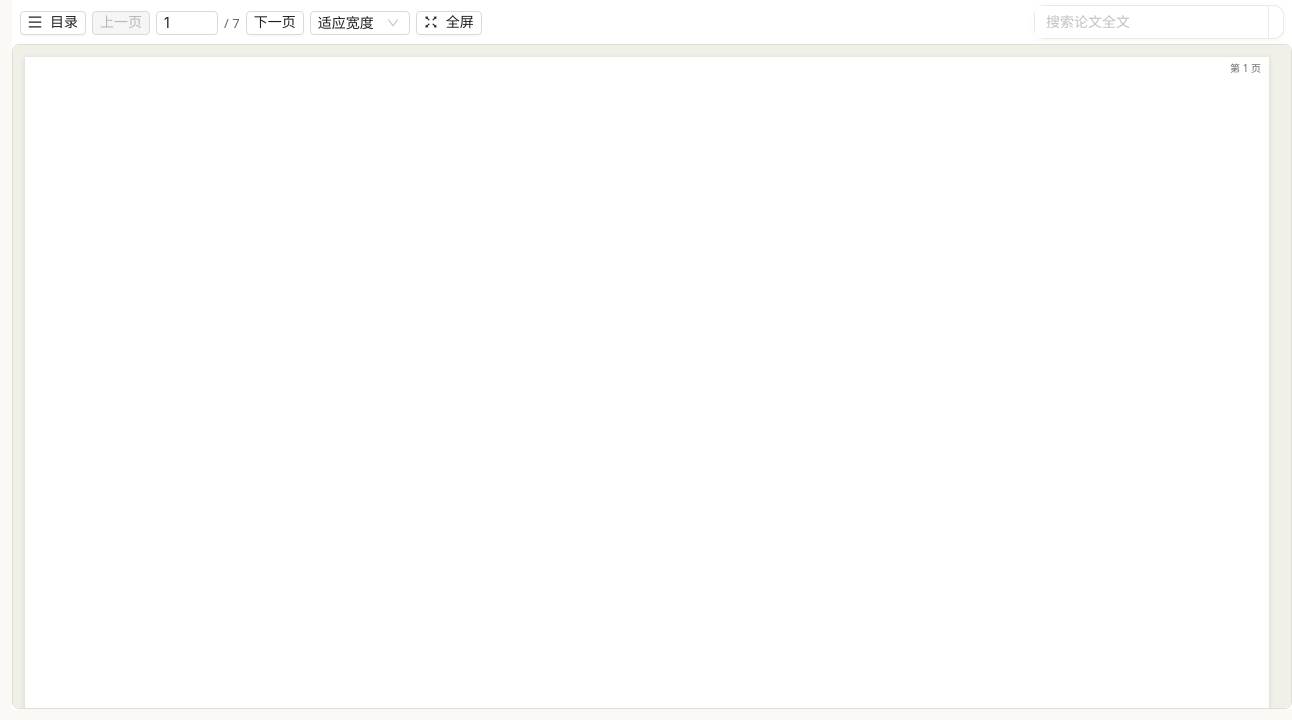
full text search finds unrendered pages and navigates matching pages
Check: the number field named "PDF 页码" is enabled, box 157,12 -> 217,34
Type "bounded residual" into the search field labelled "搜索论文全文". click: [1144, 22]
box: 1046,10 -> 1242,34
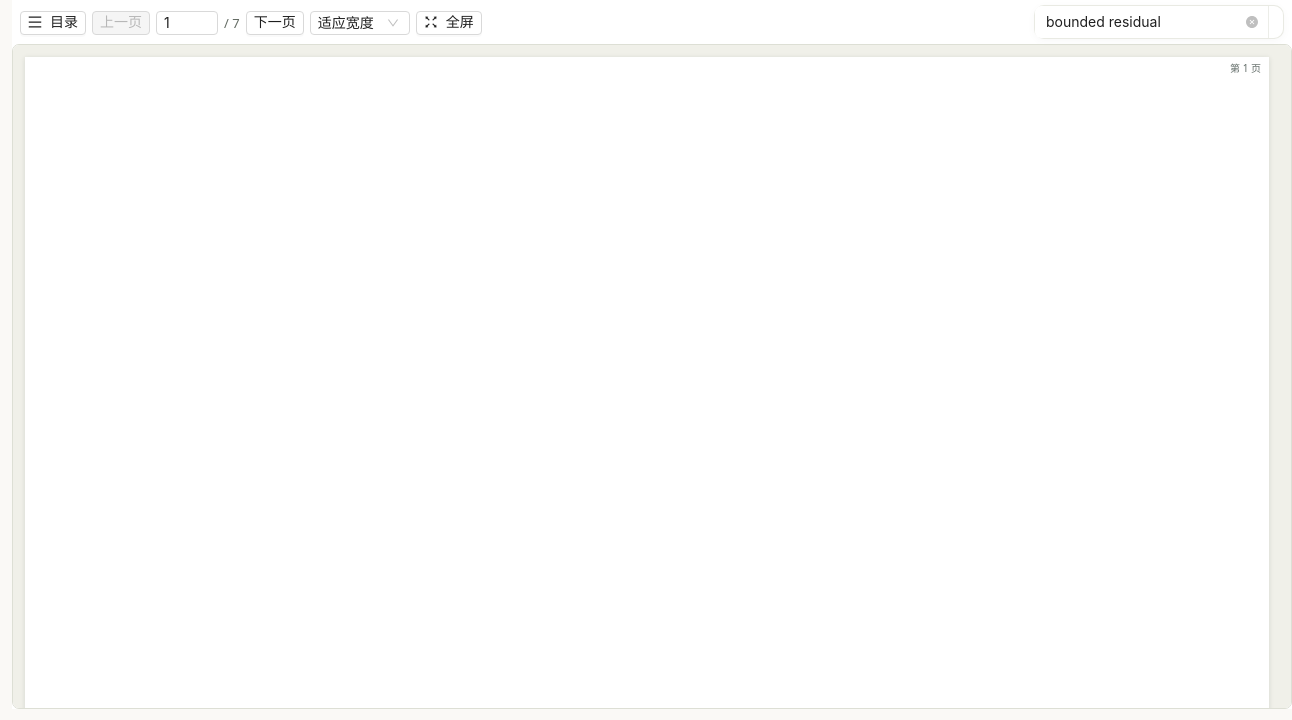
Click the 2nd button named "搜索". click: [1276, 22]
box: 1268,6 -> 1283,38
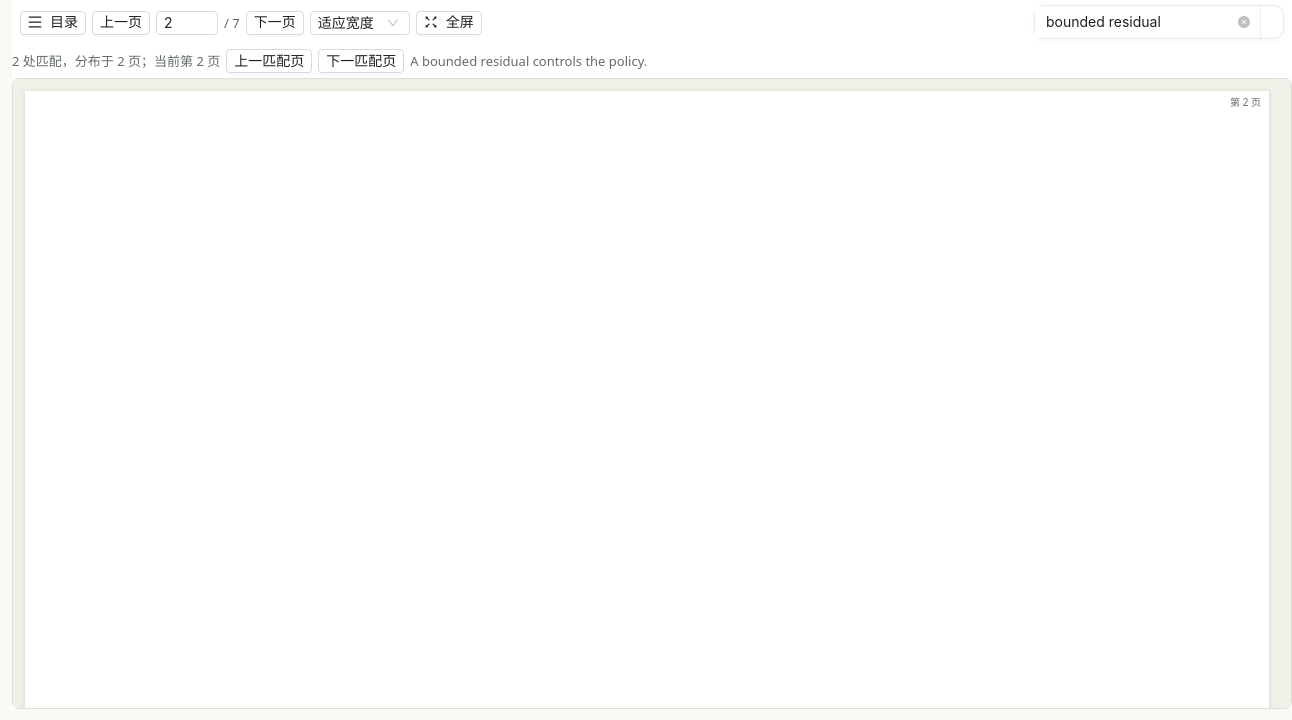
Check: the text "2 处匹配，分布于 2 页；当前第 2 页" is shown, box 12,51 -> 220,71
Click the button "下一匹配页". click: [361, 61]
box: 318,49 -> 404,73
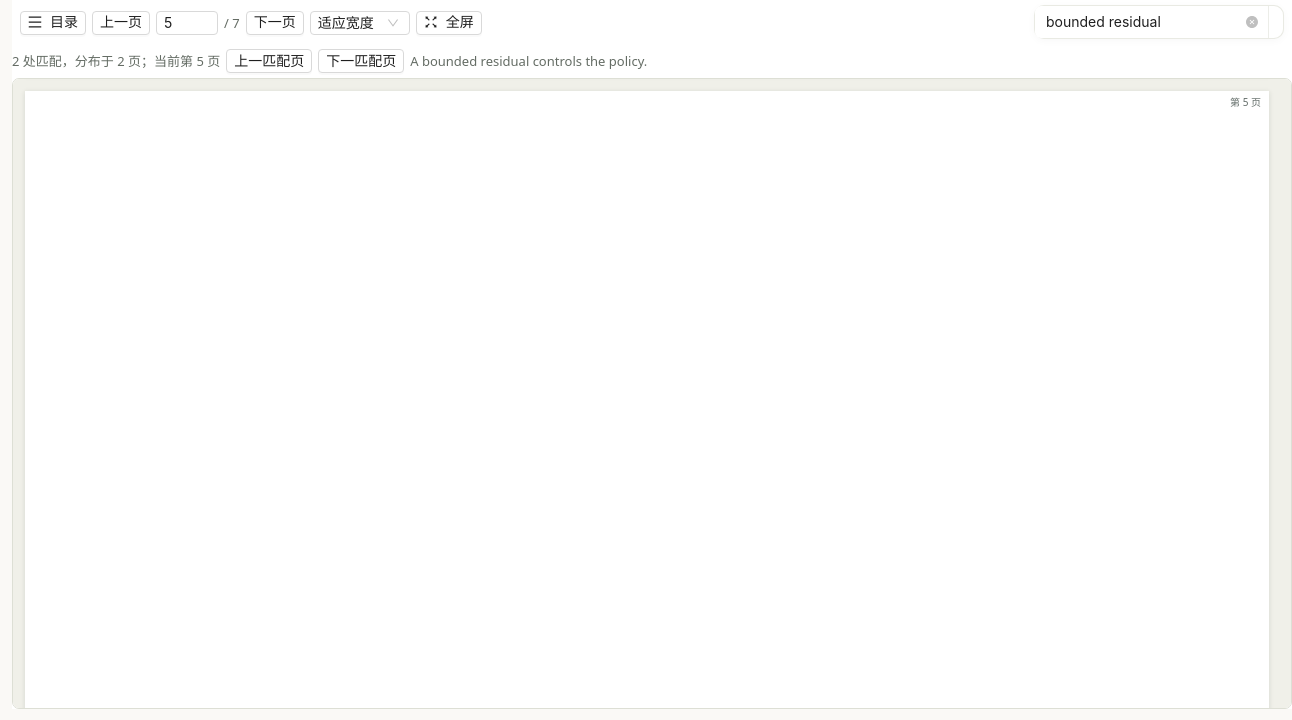
Check: the number field named "PDF 页码" holds "5", box 157,12 -> 217,34
